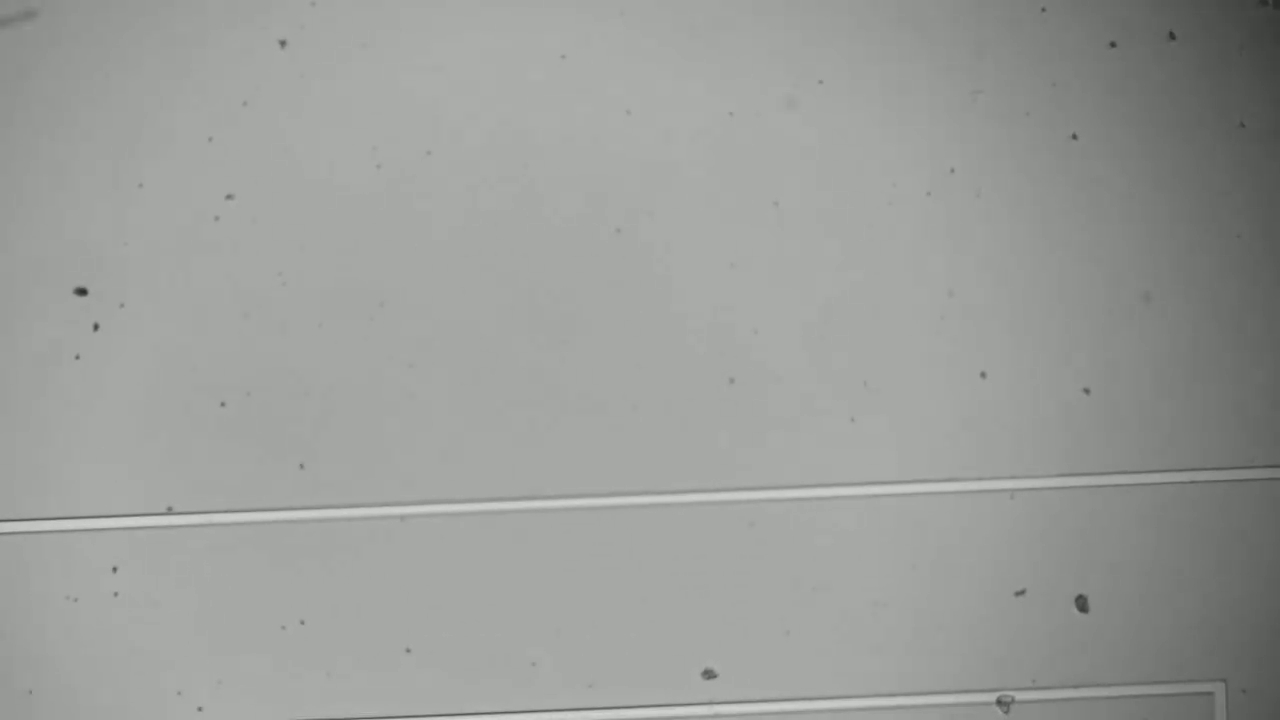stains_enbedded: (981, 677, 1027, 718)
